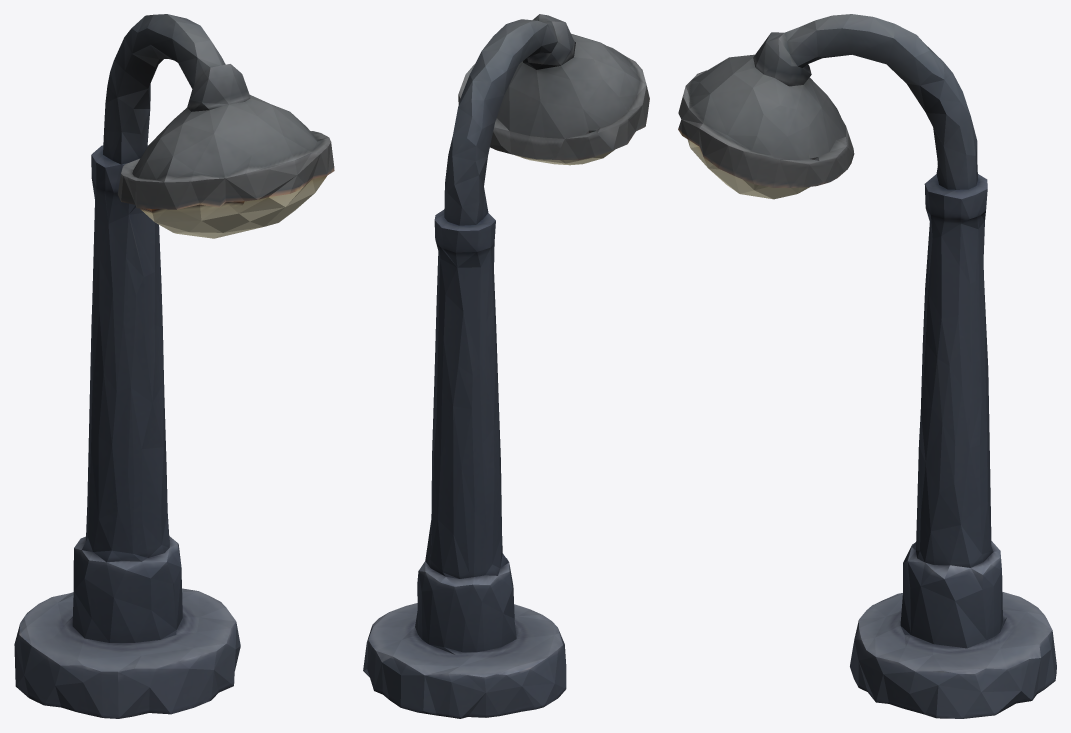
File: street_lamp.glb
The picture shows the model from 3 angles, left to right: view 1: azimuth 30°, elevation 25°; view 2: azimuth 150°, elevation 25°; view 3: azimuth 270°, elevation 25°; orthographic projection. The views are drawn at different scales.
Visible parts, largest first — view 1: geometry_0; view 2: geometry_0; view 3: geometry_0.
Boxes of the visible parts, x1=… form: geometry_0: x1=14, y1=14, x2=334, y2=718; geometry_0: x1=363, y1=14, x2=649, y2=718; geometry_0: x1=678, y1=14, x2=1056, y2=718.
Bounding box in the file's own units: 0.307 × 0.9986 × 0.5225.
Materials: 1 (1 with a texture image).
